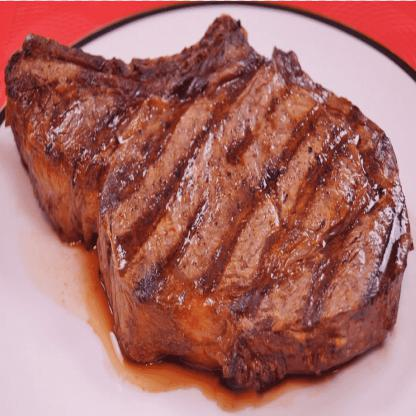Carne: (1, 12, 413, 392)
